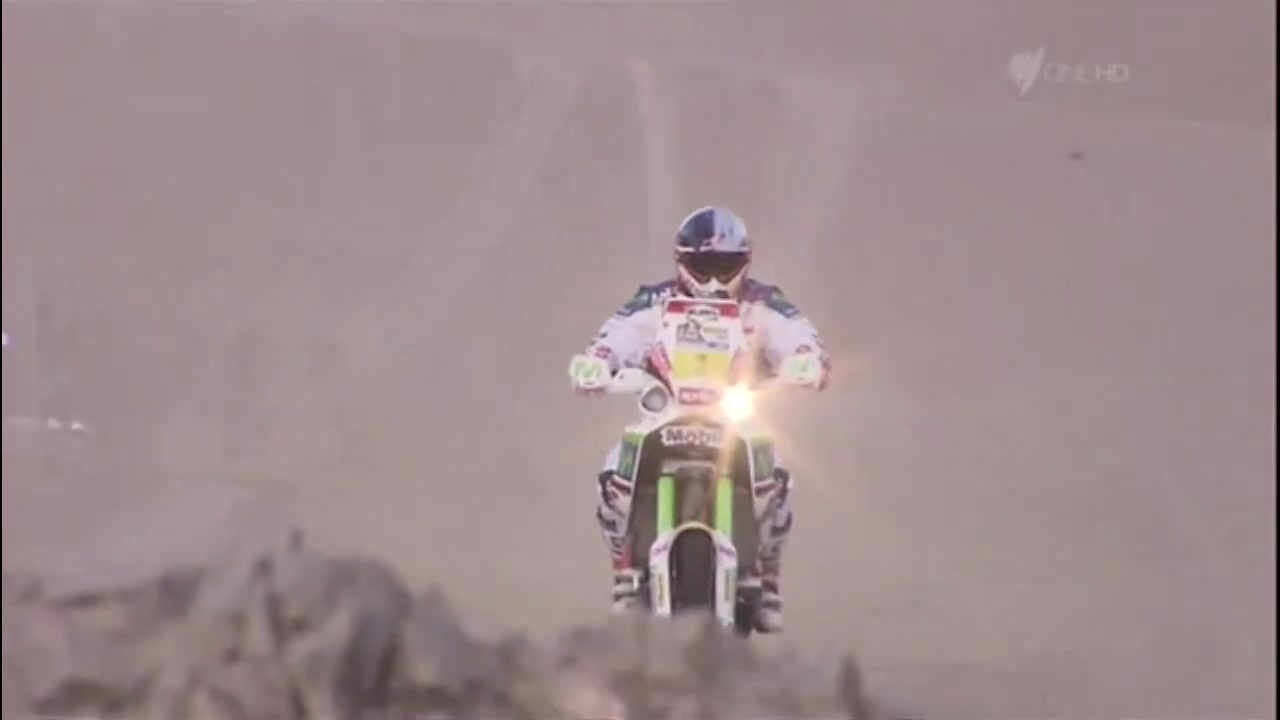motorbike: (572, 296, 825, 641)
